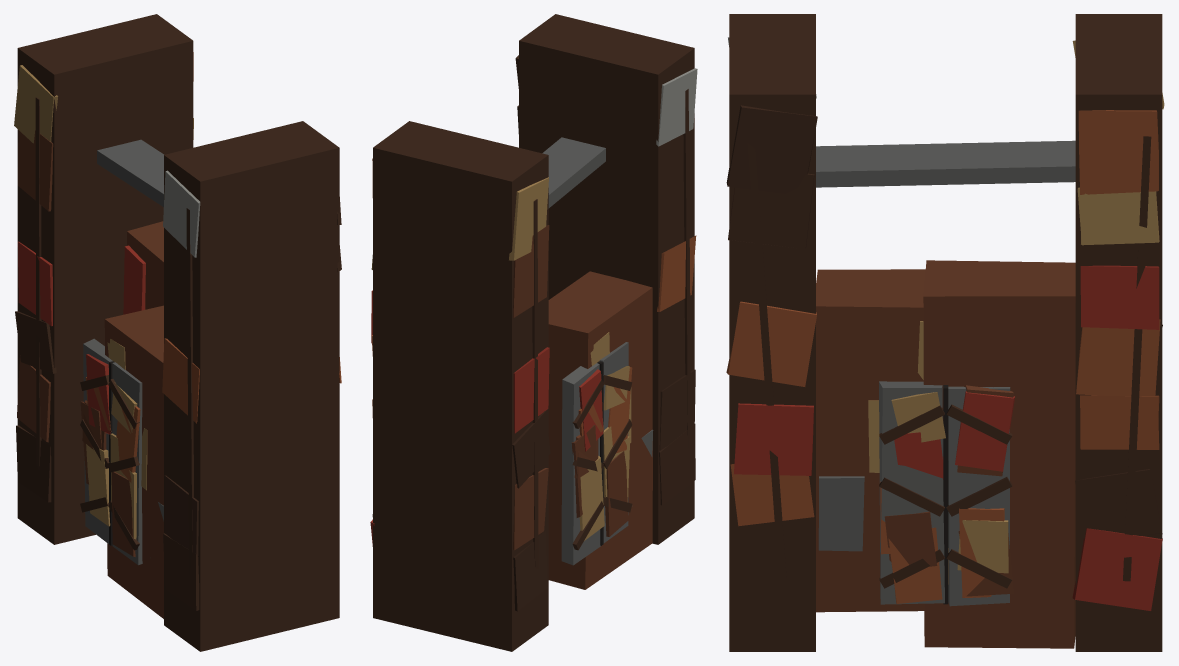
Rendered from fort_scrap_inner.glb.
The picture shows the model from 3 angles, left to right: view 1: azimuth 30°, elevation 25°; view 2: azimuth 150°, elevation 25°; view 3: azimuth 270°, elevation 25°; orthographic projection. The views are drawn at different scales.
Visible parts, largest first — view 1: fort_scrap_inner; view 2: fort_scrap_inner; view 3: fort_scrap_inner.
Boxes of the visible parts, x1=… form: fort_scrap_inner: x1=14, y1=14, x2=341, y2=651; fort_scrap_inner: x1=370, y1=14, x2=697, y2=651; fort_scrap_inner: x1=726, y1=14, x2=1164, y2=651.
Size of the model in its own units: 4.58 by 14.24 by 10.11.
